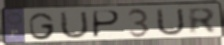3: (126, 7, 150, 39)
G: (28, 11, 57, 41)
P: (91, 9, 122, 39)
R: (186, 7, 219, 36)
U: (156, 6, 188, 37), (59, 9, 91, 40)
